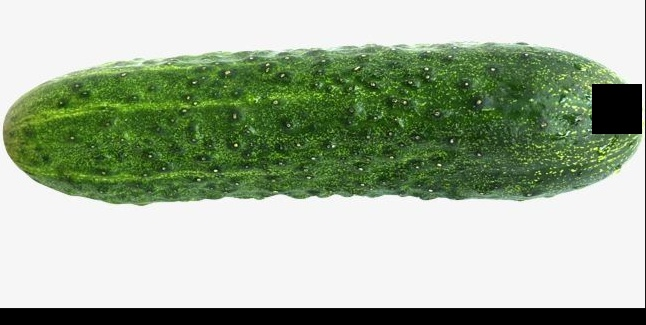cucumber: (4, 40, 644, 203)
